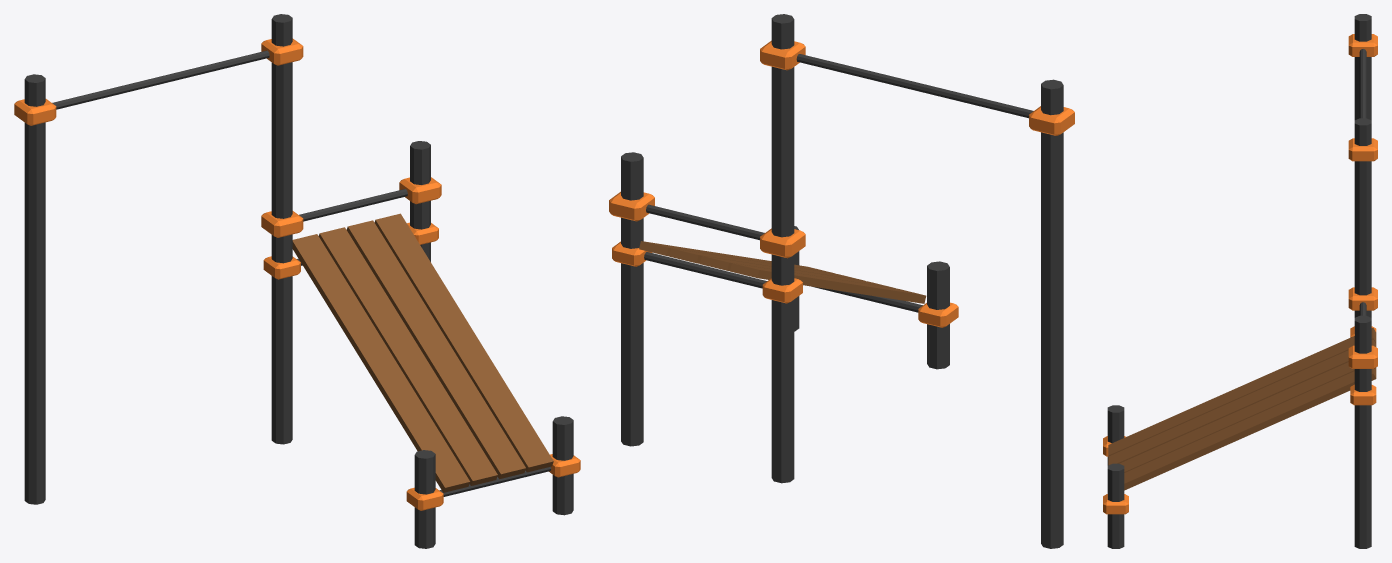
Rendered from Crossbar2.fbx.
3 renders of one model, left to right at view 1: azimuth 30°, elevation 25°; view 2: azimuth 150°, elevation 25°; view 3: azimuth 270°, elevation 25°, orthographic. The views are drawn at different scales.
Visible parts, largest first — view 1: Crossbar2; view 2: Crossbar2; view 3: Crossbar2.
Boxes of the visible parts, box(x1,y1,x2,y2) form: Crossbar2: box(14, 14, 580, 548); Crossbar2: box(609, 14, 1074, 548); Crossbar2: box(1103, 14, 1377, 548).
Bounding box in the file's own units: 1085 × 1055 × 720.
